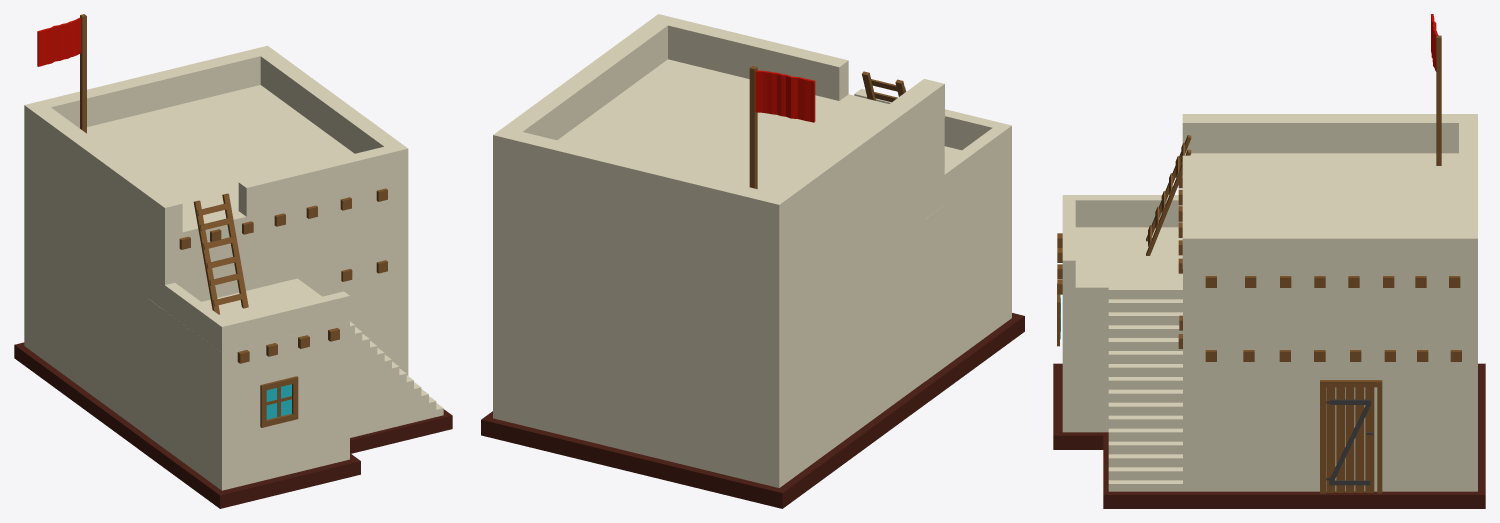
Rendered from housedone2.fbx.
The picture shows the model from 3 angles, left to right: view 1: azimuth 30°, elevation 25°; view 2: azimuth 150°, elevation 25°; view 3: azimuth 270°, elevation 25°; orthographic projection. The views are drawn at different scales.
Parts seen in each view (by area): view 1: Cube, Cube.005, Cube.007, Cube.004, Cube.023, Cube.003, Cube.001, Cube.006, Cube.021, Cube.014, Cube.002, Cube.013 (+1 smaller); view 2: Cube, Cube.007, Cube.005, Cube.001, Cube.004, Cube.014, Cube.003, Cube.013, Cube.006; view 3: Cube, Cube.007, Cube.023, Cube.005, Cube.001, Cube.004, Cube.042, Cube.021, Cube.003, Cube.006, Cube.047, Cube.044 (+5 smaller).
Boxes of the visible parts, x1=… form: Cube: x1=24, y1=85, x2=408, y2=435; Cube.005: x1=148, y1=279, x2=349, y2=490; Cube.007: x1=24, y1=45, x2=408, y2=236; Cube.004: x1=164, y1=283, x2=349, y2=352; Cube.023: x1=293, y1=278, x2=443, y2=437; Cube.003: x1=138, y1=436, x2=360, y2=508; Cube.001: x1=14, y1=342, x2=167, y2=452; Cube.006: x1=193, y1=193, x2=248, y2=314; Cube.021: x1=350, y1=409, x2=452, y2=453; Cube.014: x1=37, y1=17, x2=81, y2=66; Cube.002: x1=260, y1=376, x2=298, y2=427; Cube.013: x1=80, y1=14, x2=86, y2=133; Cube: x1=493, y1=59, x2=944, y2=487; Cube.007: x1=493, y1=14, x2=944, y2=238; Cube.005: x1=925, y1=146, x2=1011, y2=381; Cube.001: x1=481, y1=364, x2=956, y2=508; Cube.004: x1=854, y1=89, x2=1011, y2=204; Cube.014: x1=755, y1=70, x2=815, y2=122; Cube.003: x1=929, y1=313, x2=1024, y2=401; Cube.013: x1=749, y1=66, x2=757, y2=189; Cube.006: x1=862, y1=71, x2=906, y2=102; Cube: x1=1183, y1=153, x2=1477, y2=491; Cube.007: x1=1182, y1=114, x2=1477, y2=268; Cube.023: x1=1108, y1=287, x2=1182, y2=491; Cube.005: x1=1062, y1=227, x2=1182, y2=432; Cube.001: x1=1175, y1=363, x2=1485, y2=508; Cube.004: x1=1062, y1=195, x2=1182, y2=287; Cube.042: x1=1320, y1=380, x2=1382, y2=493; Cube.021: x1=1103, y1=435, x2=1174, y2=508; Cube.003: x1=1053, y1=363, x2=1108, y2=449; Cube.006: x1=1146, y1=135, x2=1191, y2=255; Cube.047: x1=1365, y1=387, x2=1374, y2=492; Cube.044: x1=1326, y1=387, x2=1335, y2=492.
Bounding box in the file's own units: 201 × 259 × 278.
